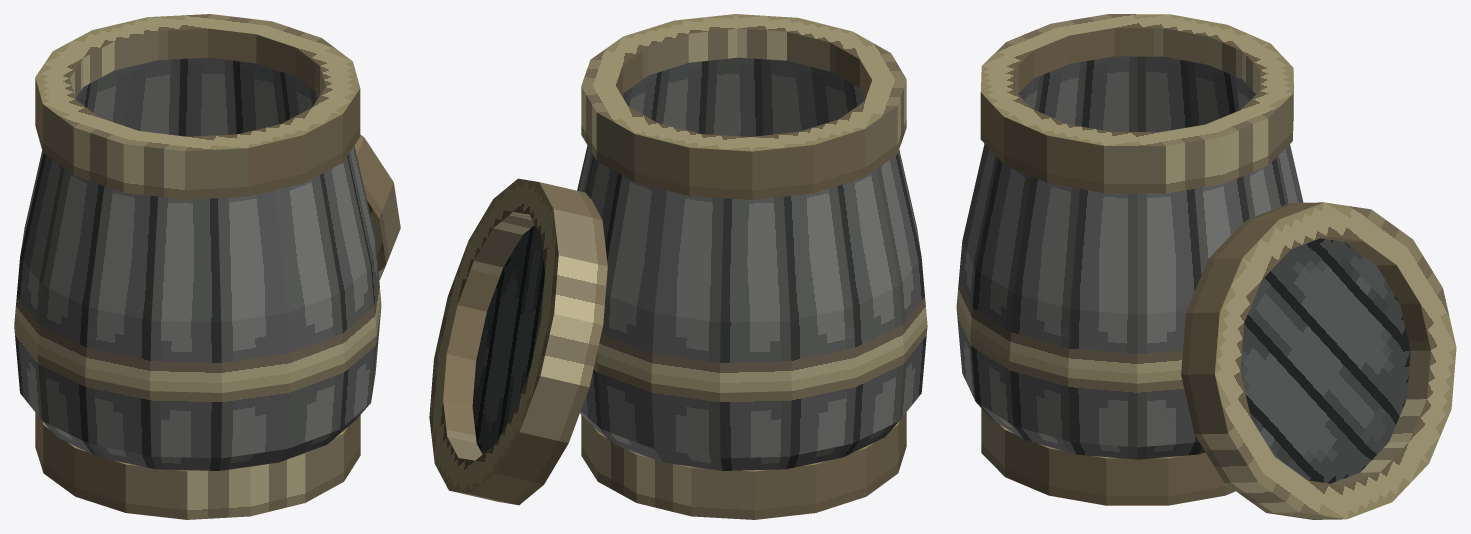
File: Prp_3D_Barrel2.fbx
3 renders of one model, left to right at view 1: azimuth 30°, elevation 25°; view 2: azimuth 150°, elevation 25°; view 3: azimuth 270°, elevation 25°, orthographic. The views are drawn at different scales.
Visible parts, largest first — view 1: Barrel2; view 2: Barrel2; view 3: Barrel2.
Boxes of the visible parts, bbox=[...] form: Barrel2: bbox=[14, 14, 400, 519]; Barrel2: bbox=[429, 14, 927, 519]; Barrel2: bbox=[956, 14, 1456, 519].
Size of the model in its own units: 130 by 112 by 141.
